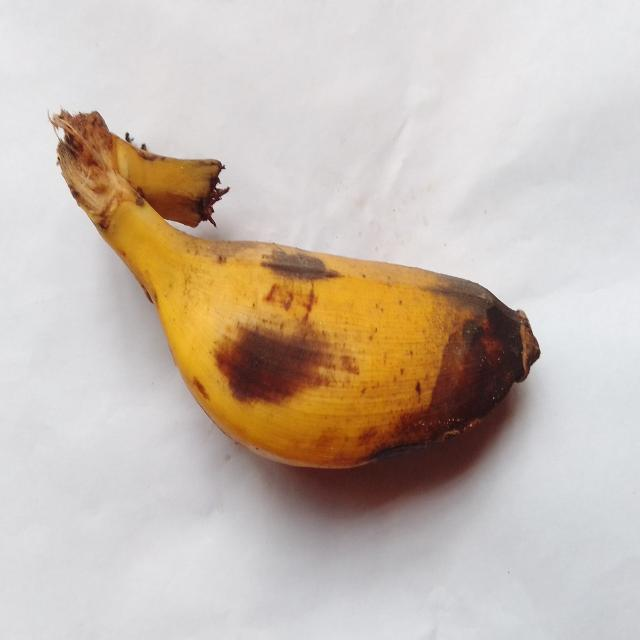banana: (53, 112, 539, 467)
